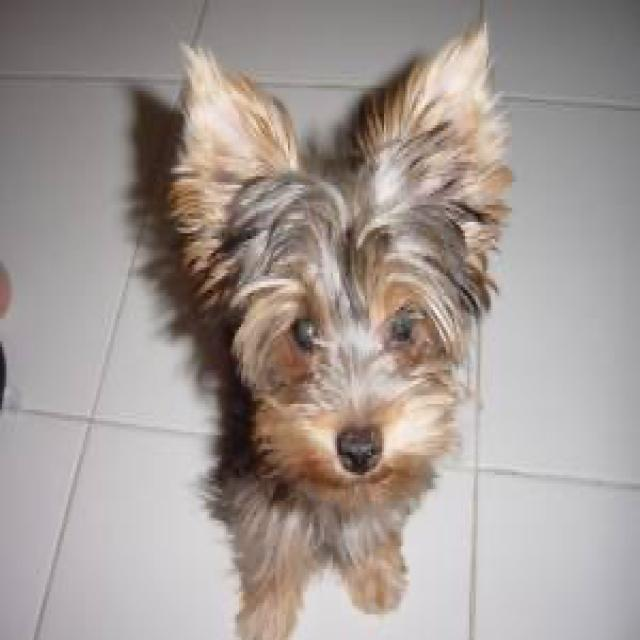dog: (175, 28, 495, 500)
